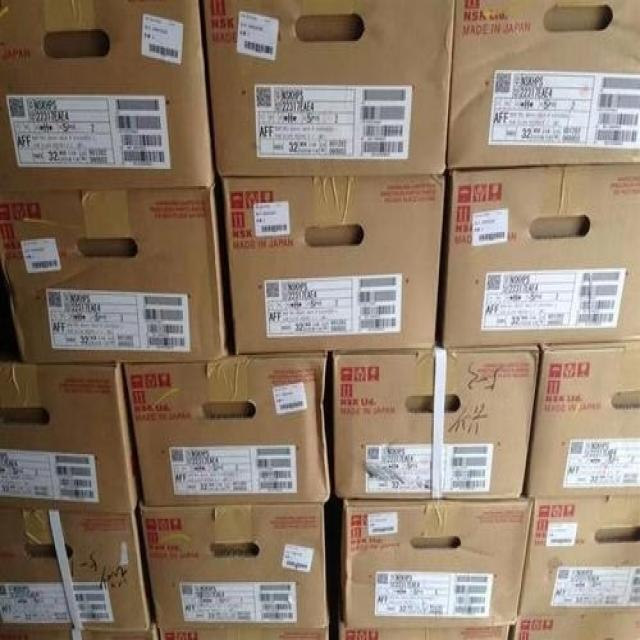box: (199, 1, 453, 175), (0, 179, 235, 361), (1, 2, 214, 196), (220, 175, 444, 353), (436, 167, 639, 349), (449, 0, 639, 168), (330, 347, 537, 500), (126, 354, 330, 508), (332, 497, 532, 628), (140, 506, 329, 632), (0, 360, 142, 515), (0, 507, 152, 635), (524, 341, 639, 498), (518, 495, 639, 618), (333, 616, 511, 638), (508, 618, 639, 638)
